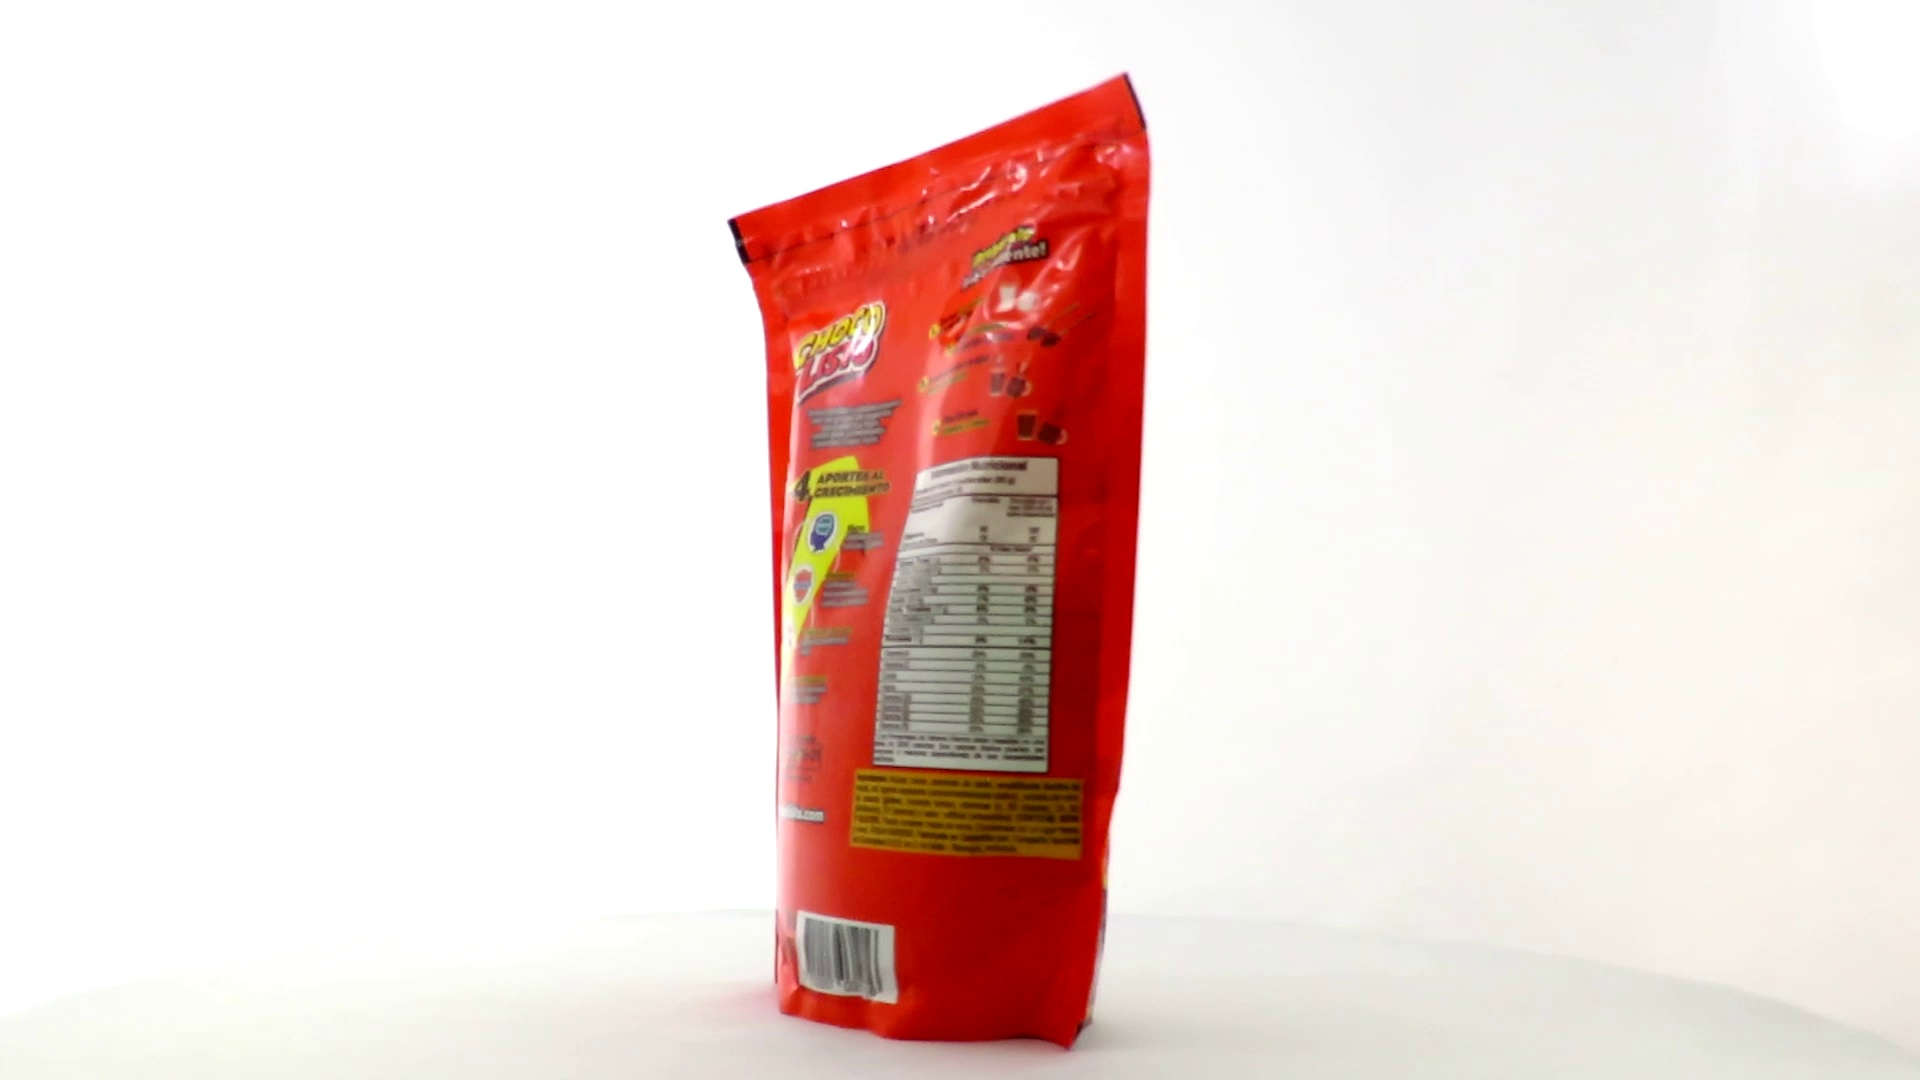COL0170103DYP36000: (723, 69, 1156, 1056)
